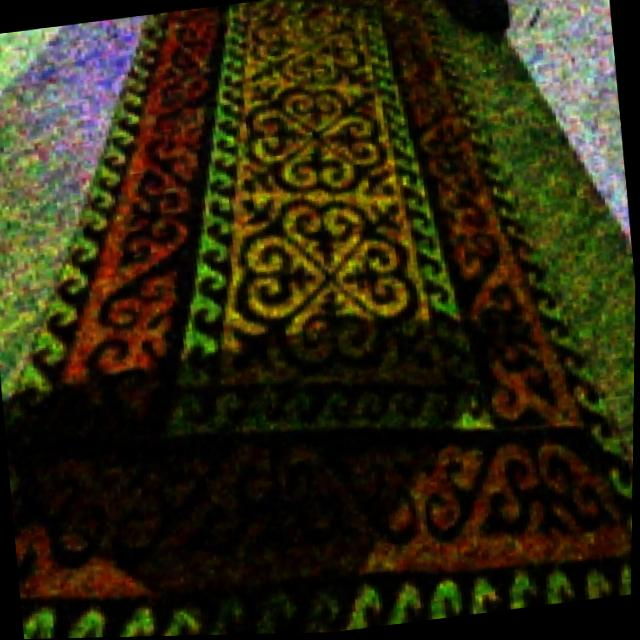Unity: (208, 197, 450, 382), (227, 82, 395, 196), (241, 7, 371, 81)
